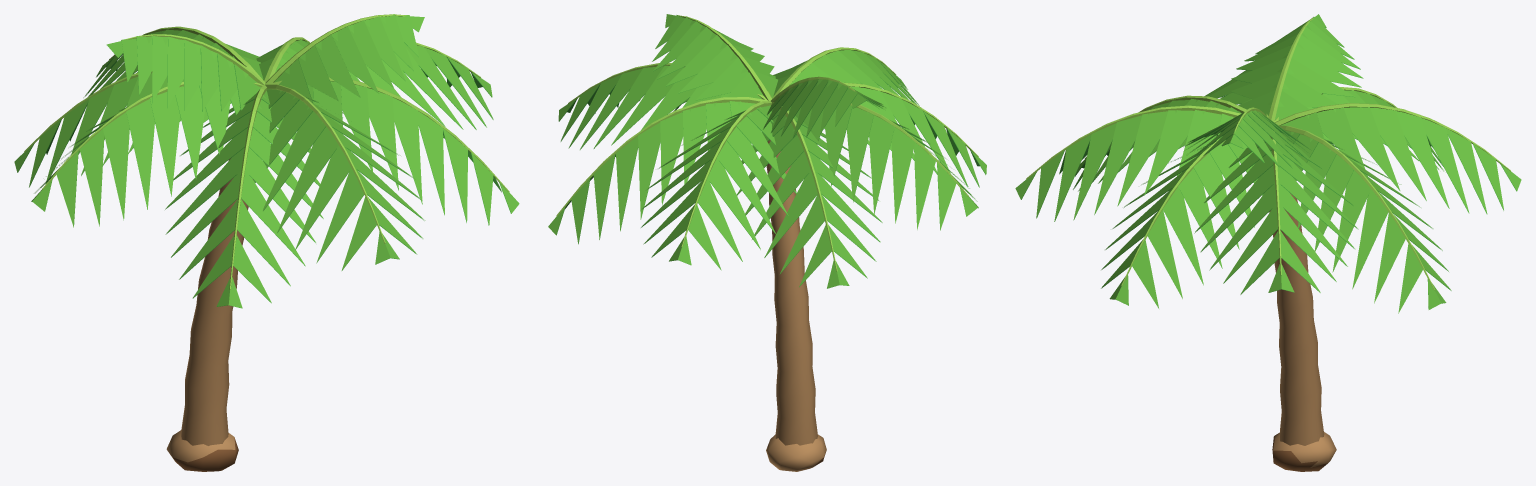
File: palm_a.obj
3 renders of one model, left to right at view 1: azimuth 30°, elevation 25°; view 2: azimuth 150°, elevation 25°; view 3: azimuth 270°, elevation 25°, orthographic. The views are drawn at different scales.
Parts seen in each view (by area): view 1: palm_a_frond_mid, palm_a_trunk, palm_a_frond_light, palm_a_frond_dark, palm_a_trunk_dark; view 2: palm_a_frond_mid, palm_a_trunk, palm_a_frond_light, palm_a_frond_dark; view 3: palm_a_frond_mid, palm_a_trunk, palm_a_frond_light, palm_a_frond_dark, palm_a_trunk_dark.
Part boxes in pixels (<box>): palm_a_frond_mid: <box>14,14,519,308</box>; palm_a_trunk: <box>166,158,253,462</box>; palm_a_frond_light: <box>24,14,509,289</box>; palm_a_frond_dark: <box>17,28,511,307</box>; palm_a_trunk_dark: <box>173,438,238,471</box>; palm_a_frond_mid: <box>548,14,986,288</box>; palm_a_trunk: <box>766,140,826,471</box>; palm_a_frond_light: <box>556,15,978,271</box>; palm_a_frond_dark: <box>556,26,985,288</box>; palm_a_frond_mid: <box>1015,14,1521,313</box>; palm_a_trunk: <box>1269,193,1336,467</box>; palm_a_frond_light: <box>1026,18,1510,290</box>; palm_a_frond_dark: <box>1021,27,1516,309</box>; palm_a_trunk_dark: <box>1272,437,1327,471</box>.
Size of the model in its own units: 4.7 by 4.34 by 4.72.
